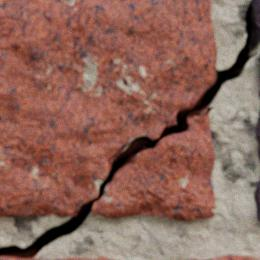brick: (180, 254, 259, 259), (0, 256, 116, 259), (253, 175, 259, 220), (254, 110, 259, 161), (252, 0, 259, 33), (258, 69, 259, 98)
broken_brick: (0, 0, 216, 216), (89, 107, 215, 220)
crack: (0, 0, 259, 258)
